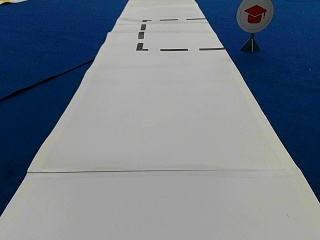school: (235, 1, 273, 31)
